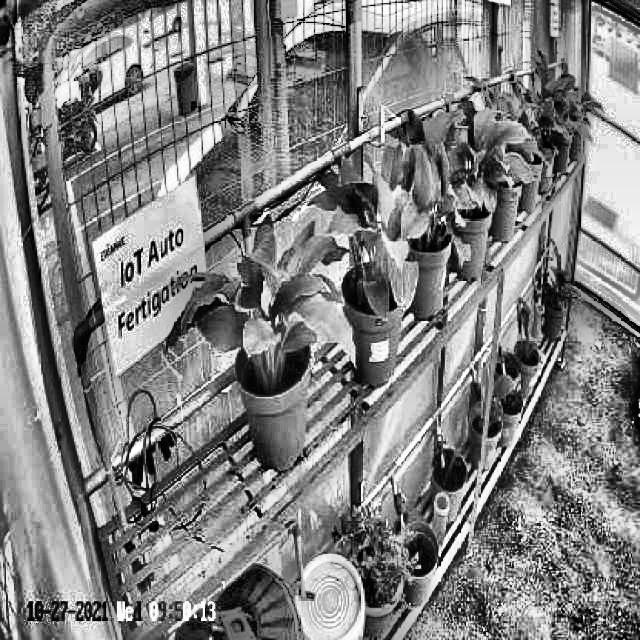plants: (162, 220, 356, 374), (306, 146, 420, 320), (378, 100, 470, 266), (434, 84, 534, 221)
